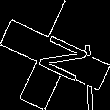N_NW: (24, 26, 86, 84)
